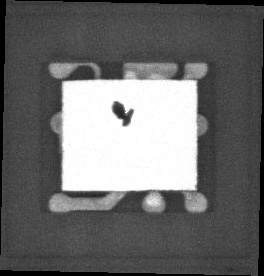DIE_INK: (106, 105, 128, 132)
